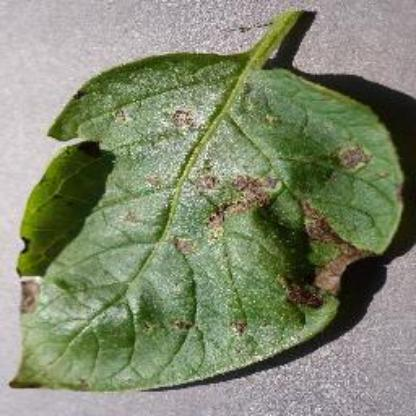Early-Blight: (9, 10, 406, 398)
